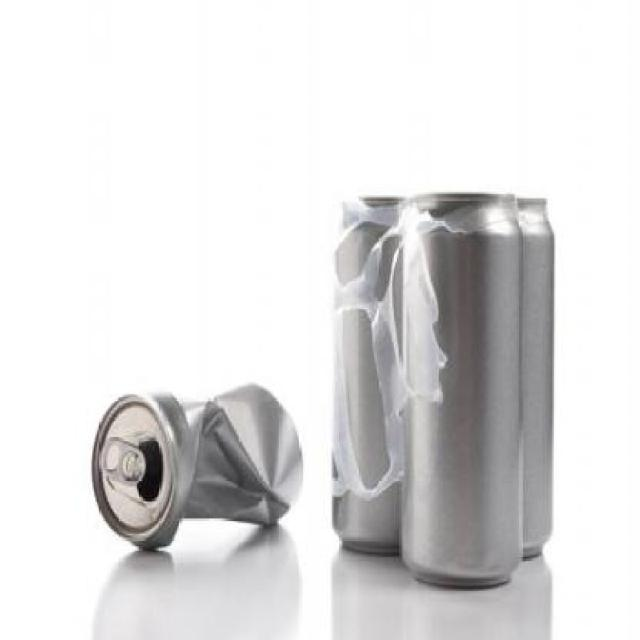metal: (401, 195, 523, 589), (92, 380, 301, 553), (332, 195, 405, 555), (518, 197, 554, 558)
